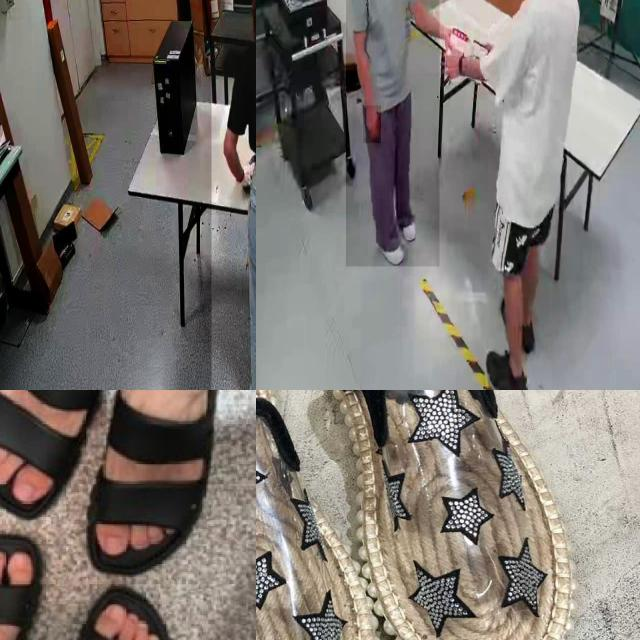Sandals: (256, 390, 608, 640), (62, 390, 242, 590), (0, 390, 105, 531), (39, 585, 185, 640)
hand_noglove: (442, 47, 464, 82), (363, 105, 381, 144), (444, 26, 458, 56)
person: (448, 0, 577, 390), (346, 0, 440, 267), (211, 0, 256, 390)
shoes: (498, 294, 540, 353), (482, 343, 531, 390), (394, 192, 418, 251), (372, 226, 406, 267)
